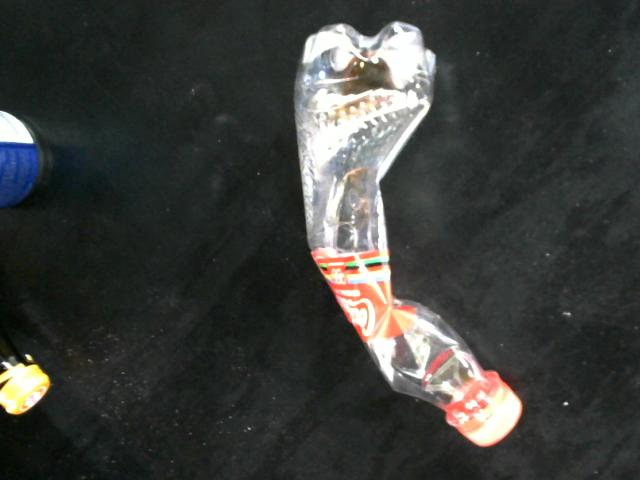bottle: (291, 19, 525, 448)
